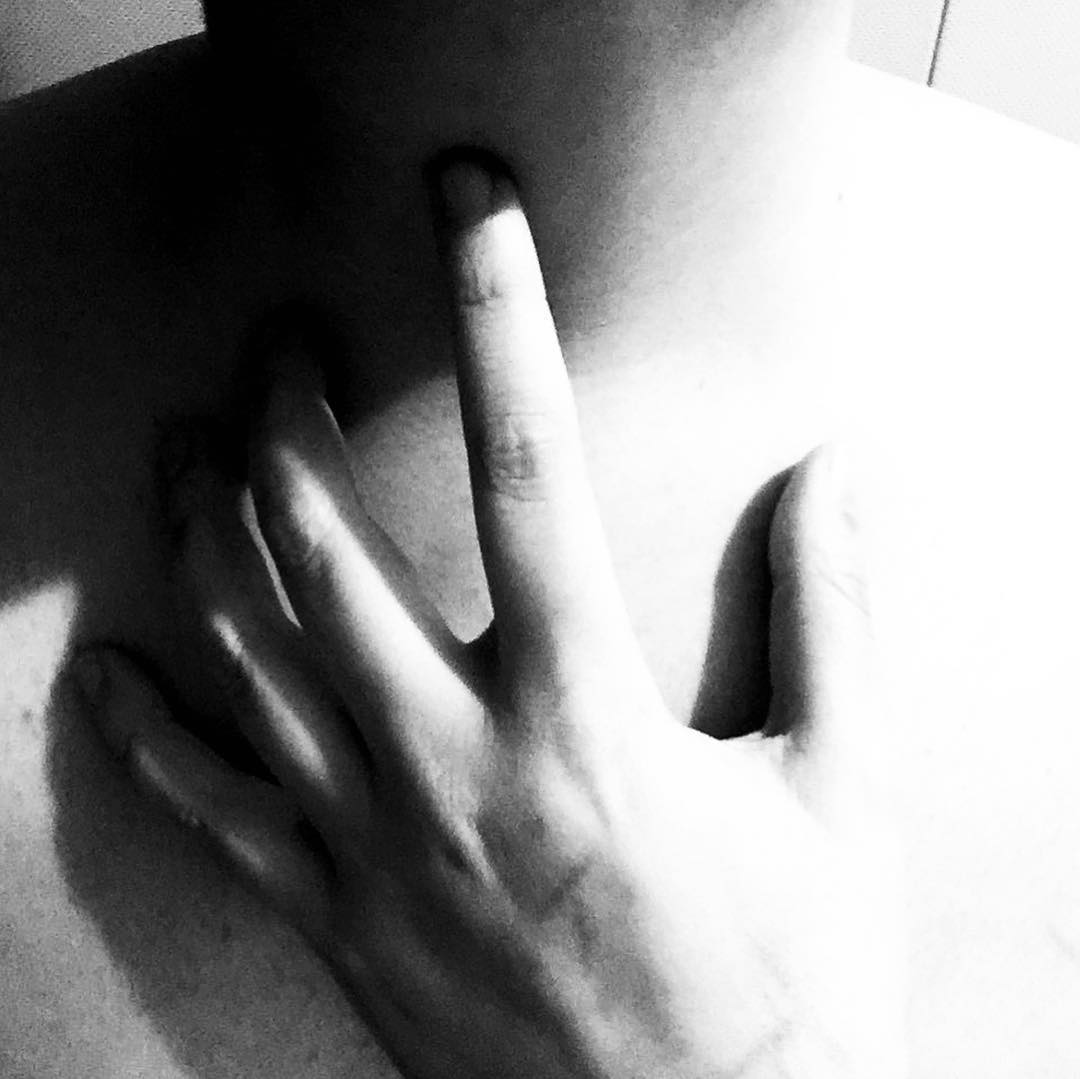hand: (89, 205, 858, 1066)
